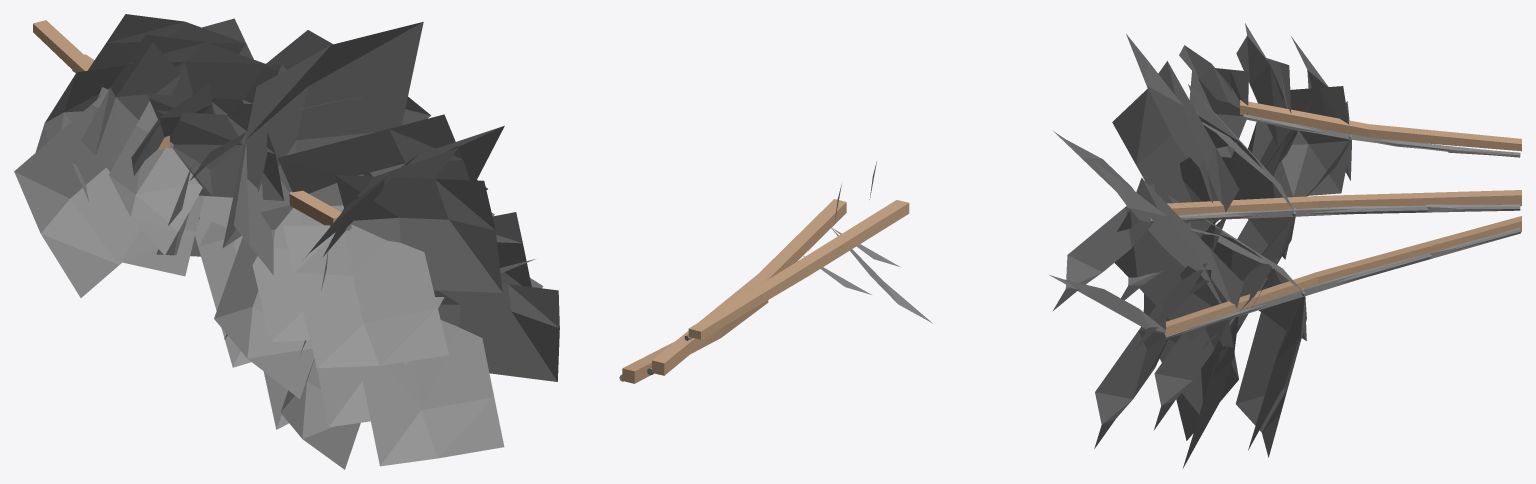
File: trop_Bamboo01.glb
3 views of the same model, side by side, from view 1: azimuth 30°, elevation 25°; view 2: azimuth 150°, elevation 25°; view 3: azimuth 270°, elevation 25° (orthographic). The views are drawn at different scales.
Parts seen in each view (by area): view 1: geometry_0; view 2: geometry_0; view 3: geometry_0.
Part boxes in pixels (left/top/right/bottom): geometry_0: left=14, top=14, right=559, bottom=469; geometry_0: left=619, top=161, right=932, bottom=383; geometry_0: left=1049, top=23, right=1521, bottom=468.
Size of the model in its own units: 28.7 by 25.73 by 30.
